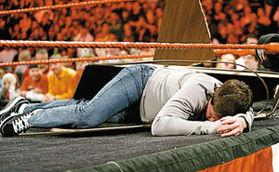down: (1, 58, 258, 142)
